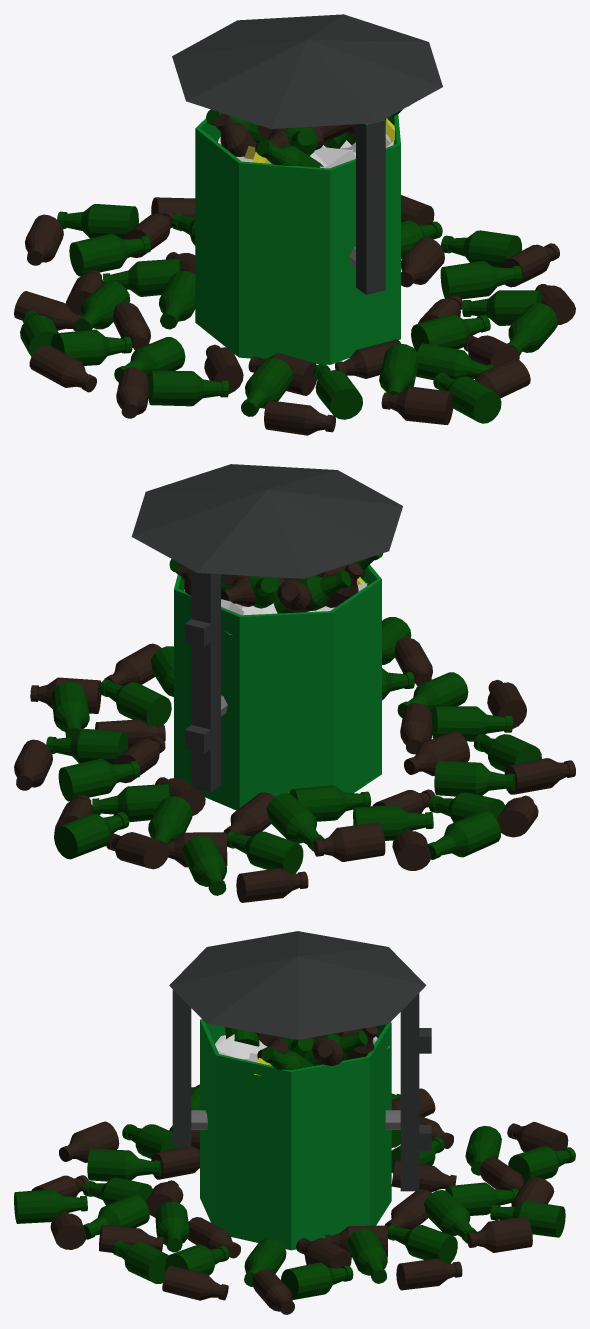
Rendered from model_Kosz_dach_pelny.fbx.
3 renders of one model, top to bottom at view 1: azimuth 30°, elevation 25°; view 2: azimuth 150°, elevation 25°; view 3: azimuth 270°, elevation 25°, orthographic. The views are drawn at different scales.
Visible parts, largest first — view 1: kosz_pelny; view 2: kosz_pelny; view 3: kosz_pelny.
Boxes of the visible parts, x1,y1,x2,y2 form: kosz_pelny: [14, 14, 575, 435]; kosz_pelny: [14, 464, 575, 902]; kosz_pelny: [14, 931, 575, 1314].
Size of the model in its own units: 206 by 104 by 199.
